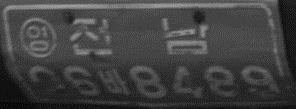0: (29, 64, 64, 99)
4: (171, 65, 204, 101)
6: (64, 63, 99, 97)
8: (130, 65, 168, 100), (204, 65, 241, 98)
9: (242, 65, 281, 100)
바: (100, 66, 128, 95)
영: (18, 16, 57, 58)
전남_D: (69, 17, 210, 55)
